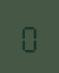zero: (19, 20, 38, 52)
